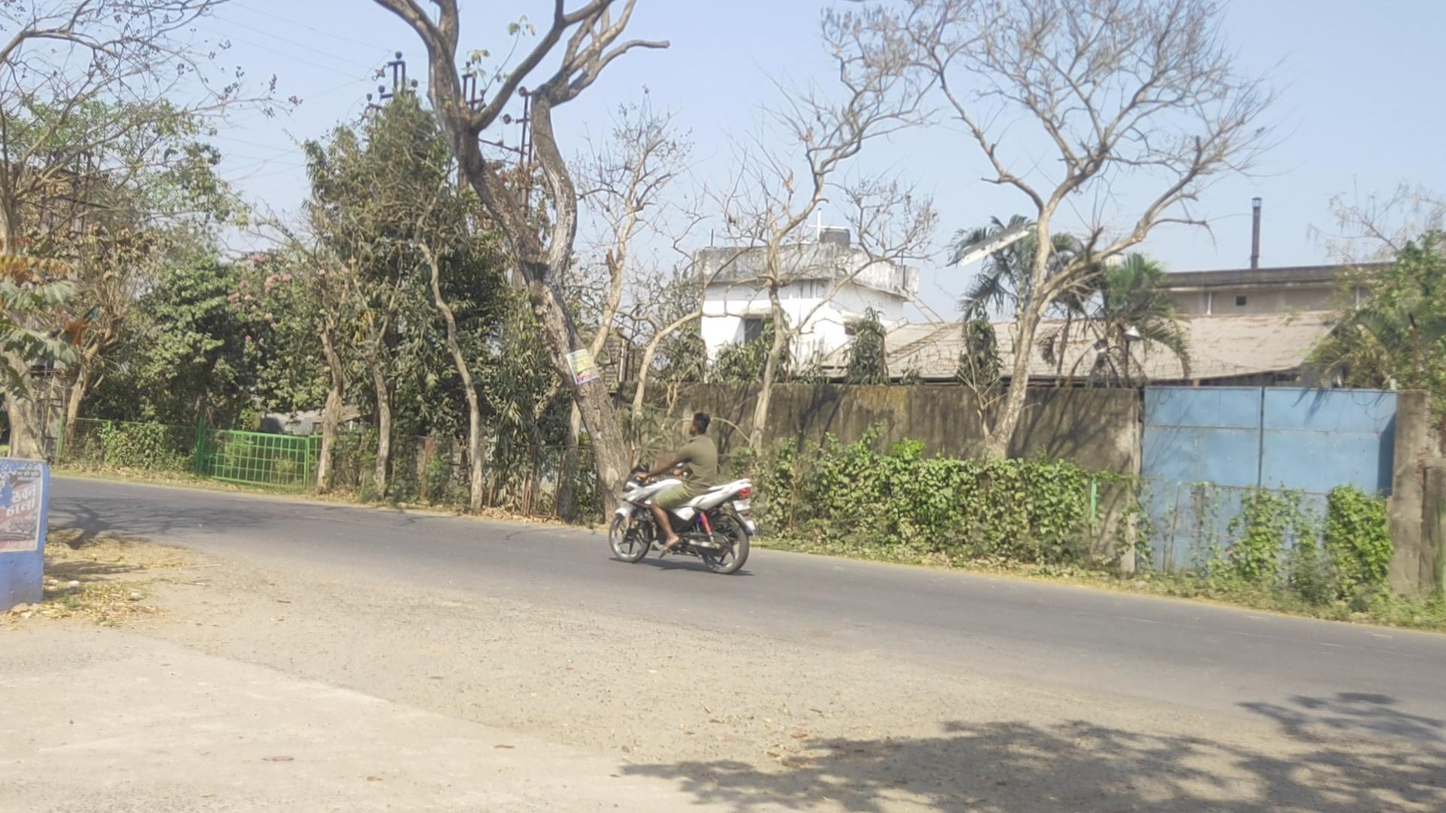bike: (609, 413, 757, 574)
